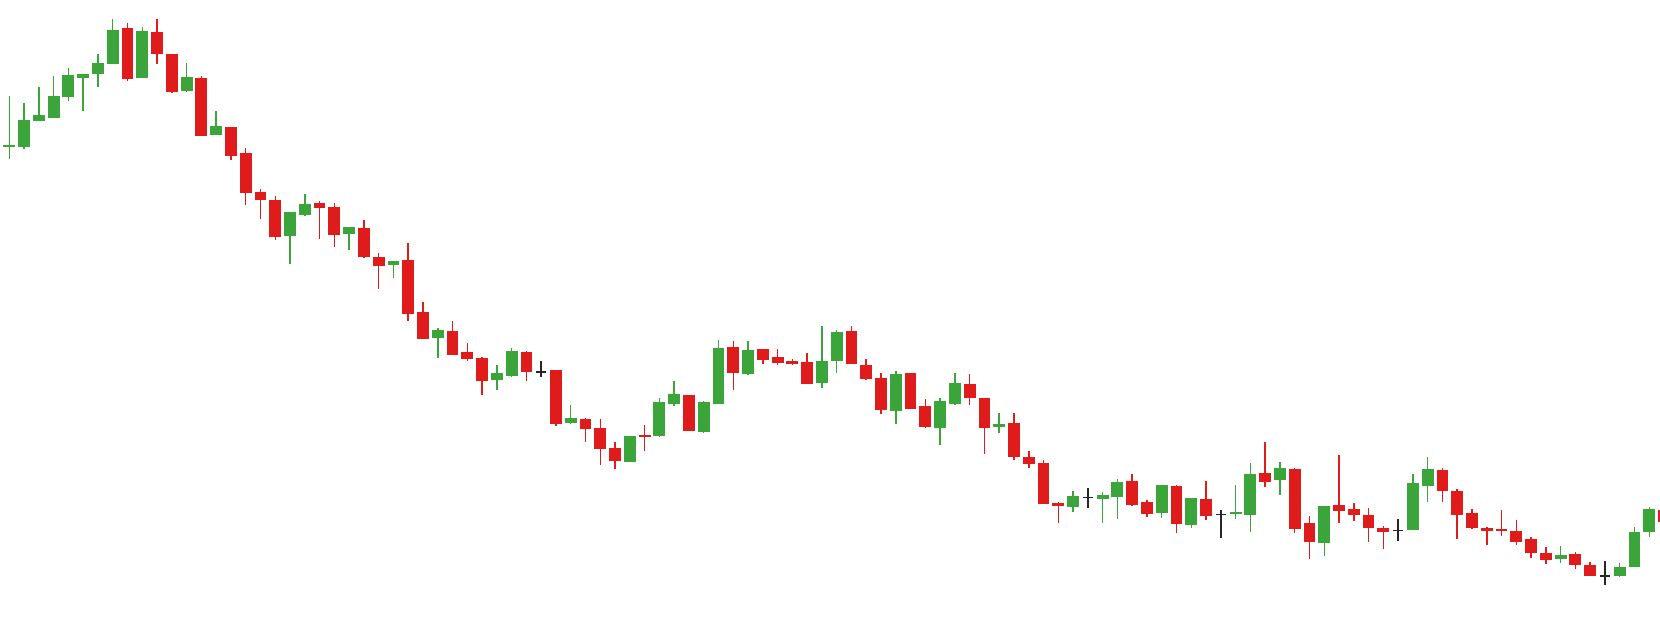sell: (712, 320, 861, 394)
